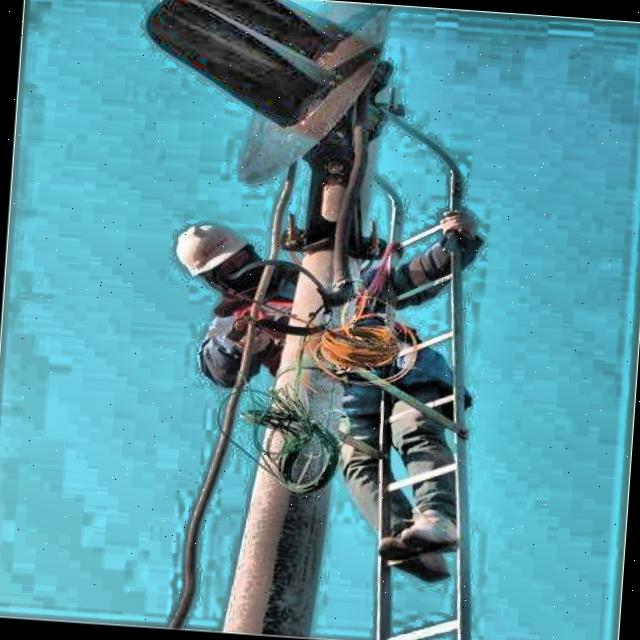helmet: (170, 214, 274, 294)
